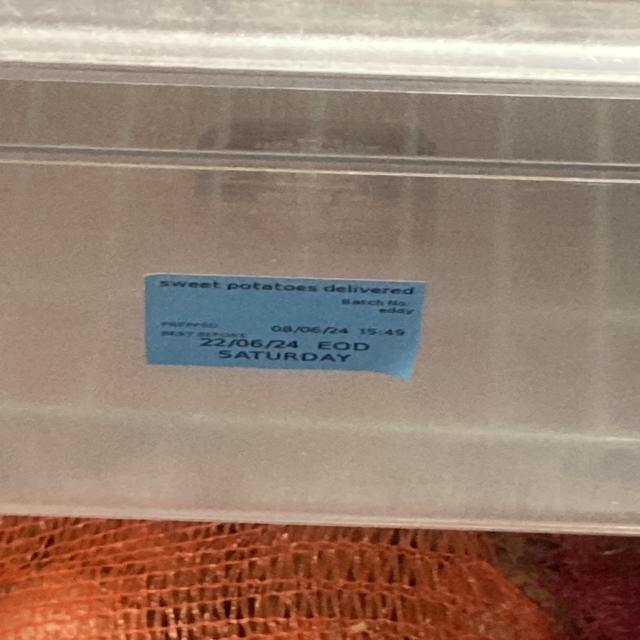product-labels: (144, 273, 425, 383)
